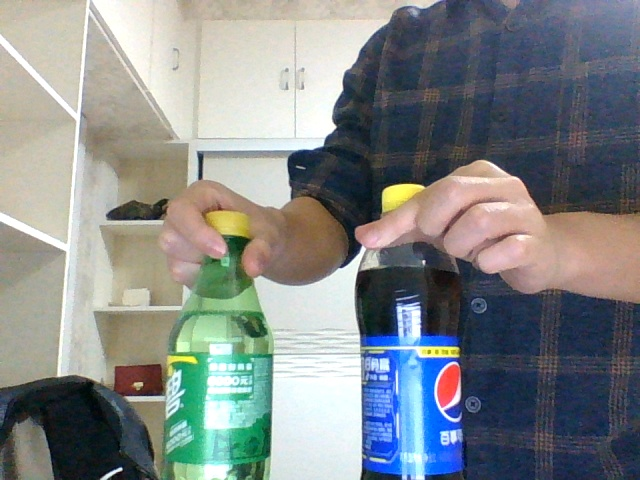Cola: (355, 182, 467, 479)
Sprite: (167, 210, 275, 479)
